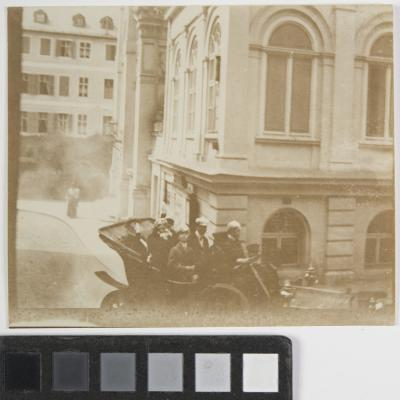photos_negatives: (7, 3, 395, 329)
